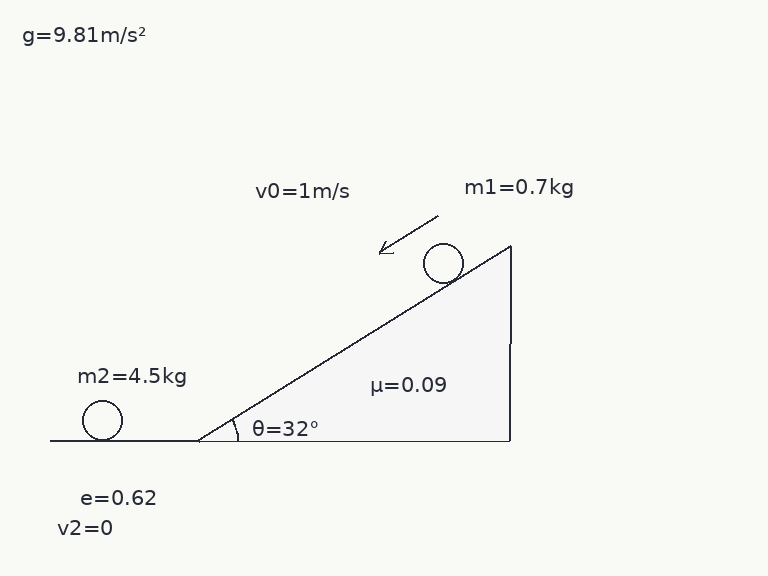ball: (421, 241, 465, 285), (80, 398, 124, 442)
ramp: (196, 243, 512, 442)
